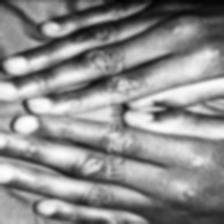Unclassified: (82, 156, 108, 176), (122, 76, 143, 90)
